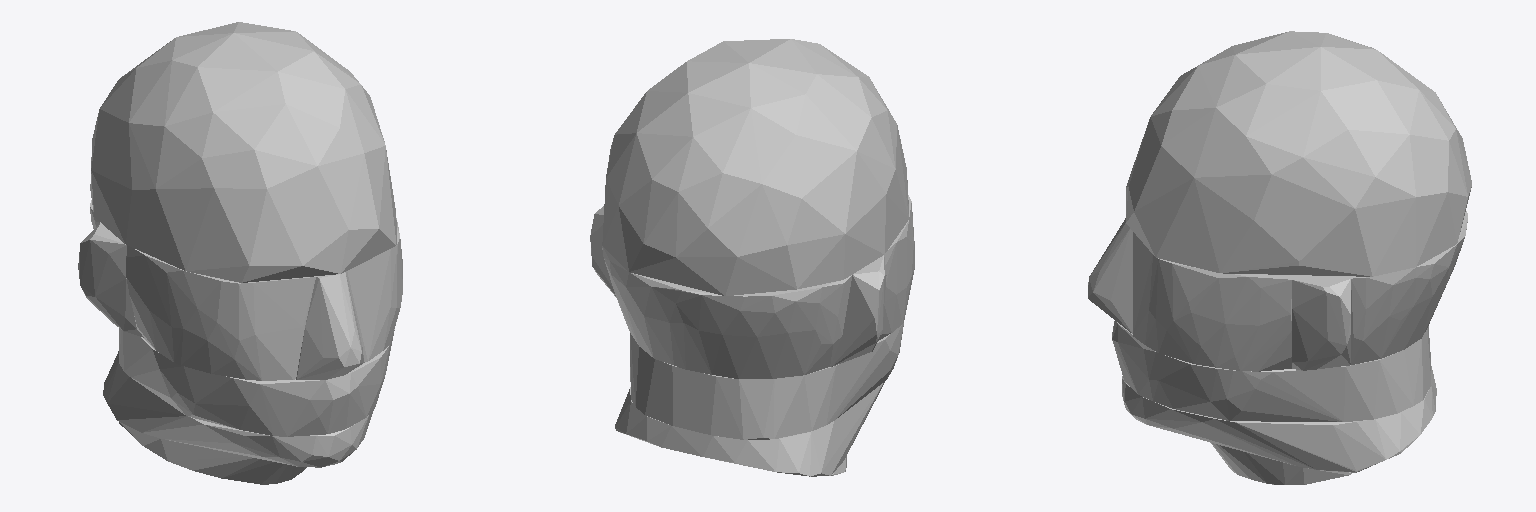
Rendered from BaseHeadMeshes_v5_male_cropped_reduced_compressed_vhacd.obj.
The picture shows the model from 3 angles: view 1: azimuth 30°, elevation 25°; view 2: azimuth 150°, elevation 25°; view 3: azimuth 270°, elevation 25°; orthographic projection.
Visible parts, largest first — view 1: convex_1, convex_6, convex_3, convex_2, convex_5, convex_7, convex_0; view 2: convex_1, convex_4, convex_3, convex_2, convex_7, convex_6; view 3: convex_1, convex_3, convex_6, convex_2, convex_4, convex_7, convex_5, convex_0.
Part boxes in pixels (x1,y1,x2,y2): convex_1: (90,22,396,282); convex_6: (126,218,402,380); convex_3: (119,328,394,436); convex_2: (103,351,374,467); convex_5: (296,272,364,379); convex_7: (78,223,143,337); convex_0: (119,422,306,484); convex_1: (602,39,908,295); convex_4: (602,246,851,378); convex_3: (630,323,903,439); convex_2: (615,382,884,476); convex_7: (590,206,886,366); convex_6: (878,195,914,340); convex_1: (1126,31,1471,276); convex_3: (1112,321,1430,421); convex_6: (1133,232,1291,371); convex_2: (1122,366,1436,472); convex_4: (1351,211,1467,364); convex_7: (1292,275,1350,370); convex_5: (1088,218,1132,333); convex_0: (1210,442,1351,484).
Bounding box in the file's own units: 0.1879 × 0.2606 × 0.218.